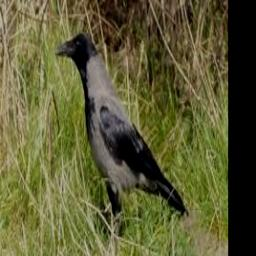Crow: (54, 33, 189, 236)
